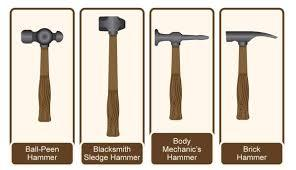hammer: (18, 26, 64, 123)
